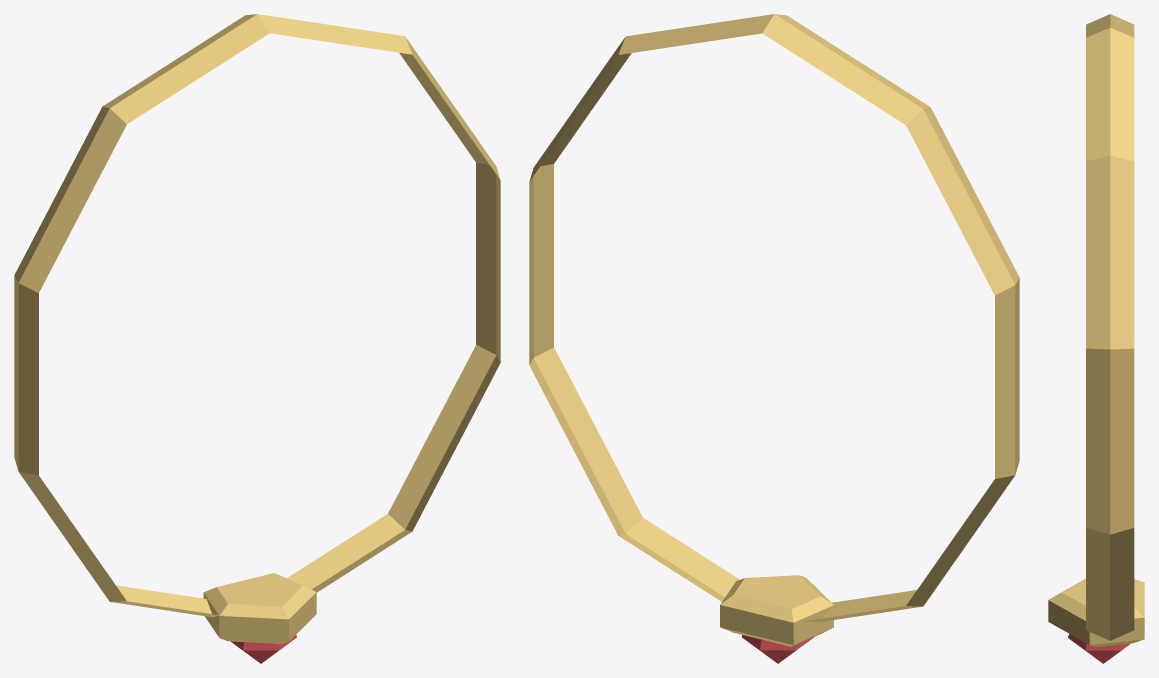
The model's file is helm_circlet.glb.
The picture shows the model from 3 angles, left to right: view 1: azimuth 30°, elevation 25°; view 2: azimuth 150°, elevation 25°; view 3: azimuth 270°, elevation 25°; orthographic projection. The views are drawn at different scales.
Parts seen in each view (by area): view 1: Head; view 2: Head; view 3: Head.
Part boxes in pixels (<box>): Head: <box>14,14,500,663</box>; Head: <box>529,14,1019,663</box>; Head: <box>1048,14,1144,663</box>.
Bounding box in the file's own units: 0.7875 × 1.02 × 0.14.
